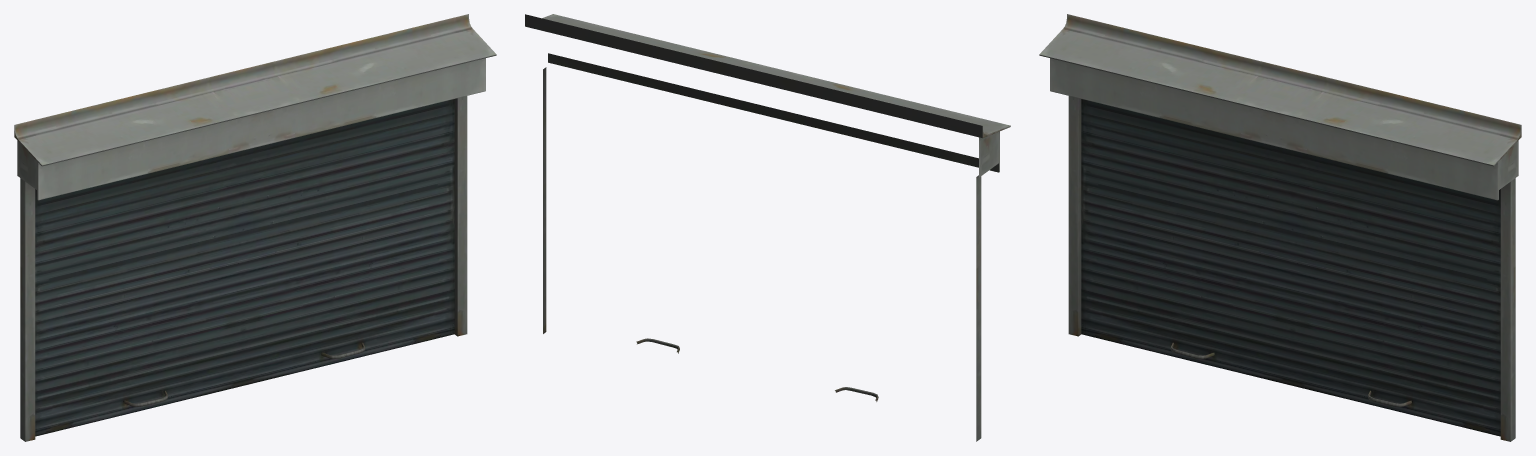
3 views of the same model, side by side, from view 1: azimuth 30°, elevation 25°; view 2: azimuth 150°, elevation 25°; view 3: azimuth 330°, elevation 25° (orthographic).
Visible parts, largest first — view 1: body0_model0_lod0_mesh0; view 2: body0_model0_lod0_mesh0; view 3: body0_model0_lod0_mesh0.
Part boxes in pixels (left/top/right/bottom): body0_model0_lod0_mesh0: left=14, top=14, right=496, bottom=441; body0_model0_lod0_mesh0: left=525, top=14, right=1010, bottom=441; body0_model0_lod0_mesh0: left=1039, top=14, right=1521, bottom=441.
Size of the model in its own units: 225 by 149 by 24.3.
1 material, 1 textured.
